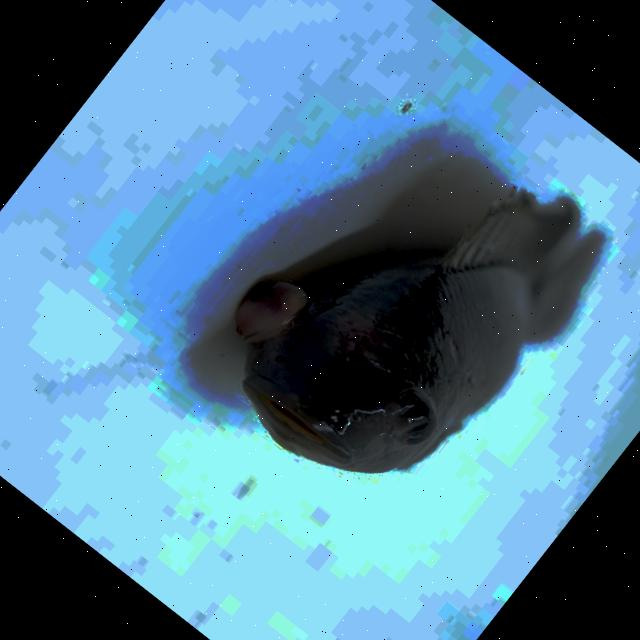Streptococcus: (235, 196, 590, 471)
